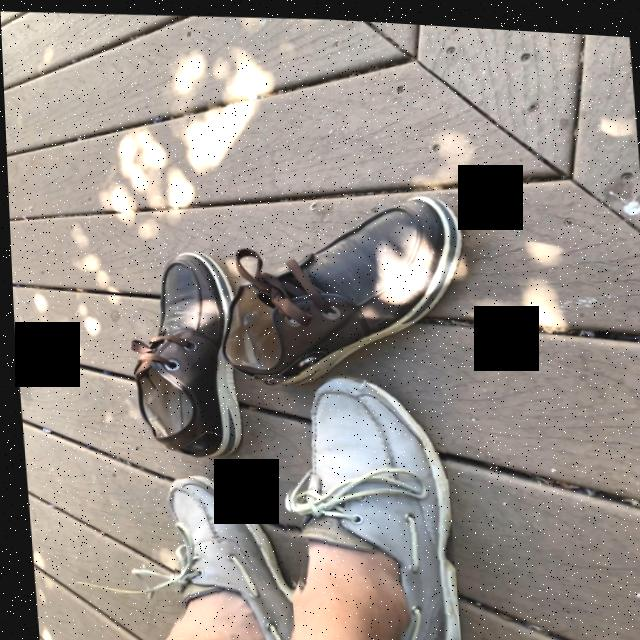shoe: (283, 376, 455, 640), (161, 476, 288, 640)
